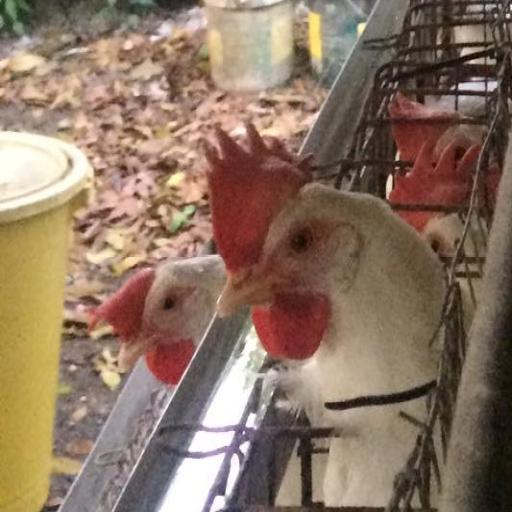healthy: (199, 131, 361, 371)
